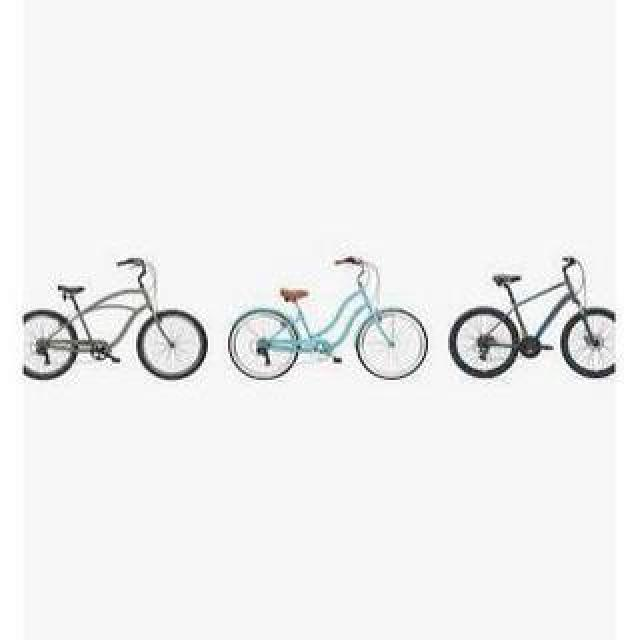Person: (227, 256, 427, 382), (22, 258, 206, 384), (449, 256, 613, 378)
